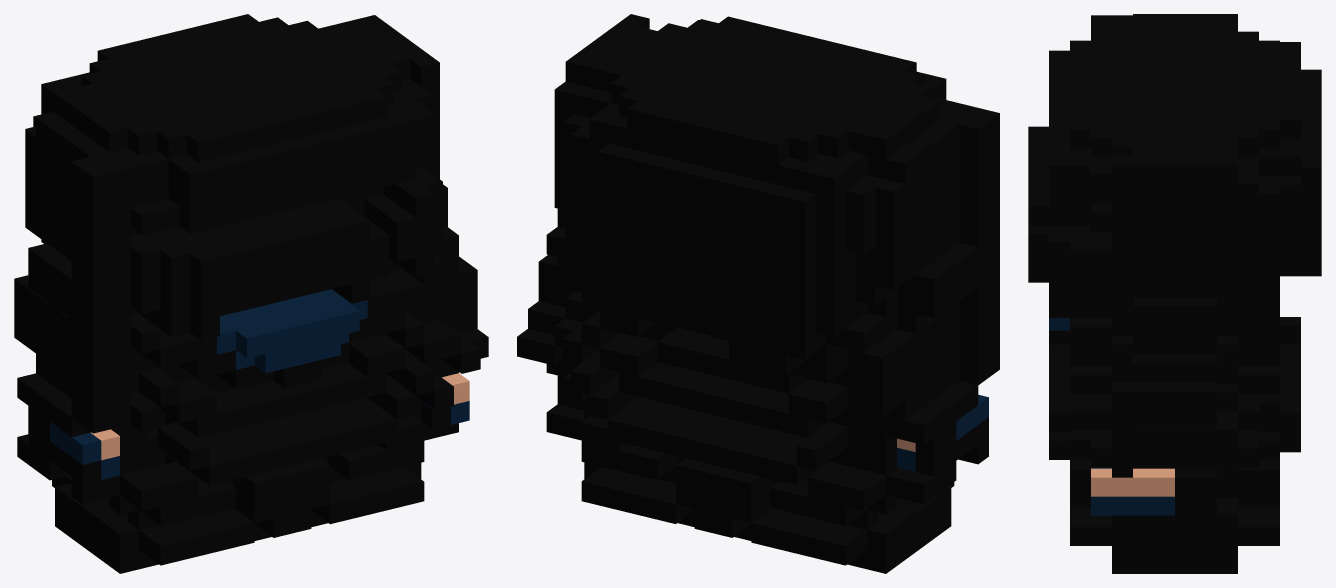
Rendered from Icon_702_02.obj.
The picture shows the model from 3 angles, left to right: view 1: azimuth 30°, elevation 25°; view 2: azimuth 150°, elevation 25°; view 3: azimuth 270°, elevation 25°; orthographic projection. The views are drawn at different scales.
Parts seen in each view (by area): view 1: Icon-701-02; view 2: Icon-701-02; view 3: Icon-701-02.
Part boxes in pixels (x1,y1,x2,y2): Icon-701-02: (14,14,488,573); Icon-701-02: (517,14,999,573); Icon-701-02: (1028,14,1321,573).
Size of the model in its own units: 2.1 by 2.2 by 1.4.
